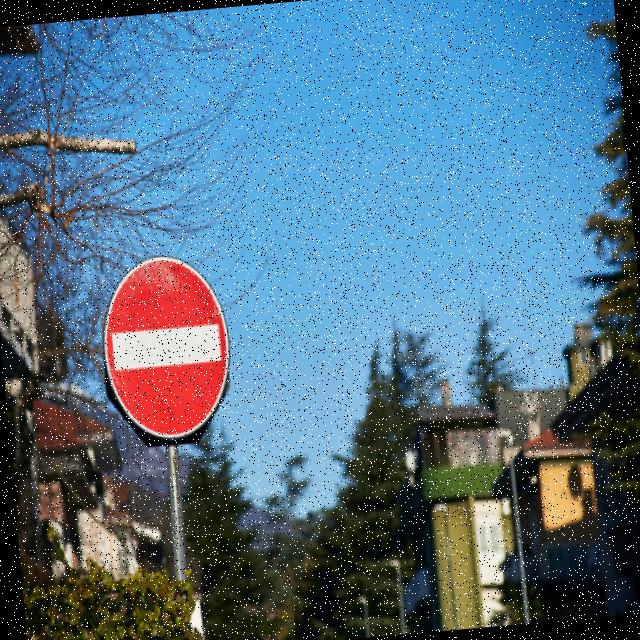do_not_enter: (95, 234, 240, 448)
